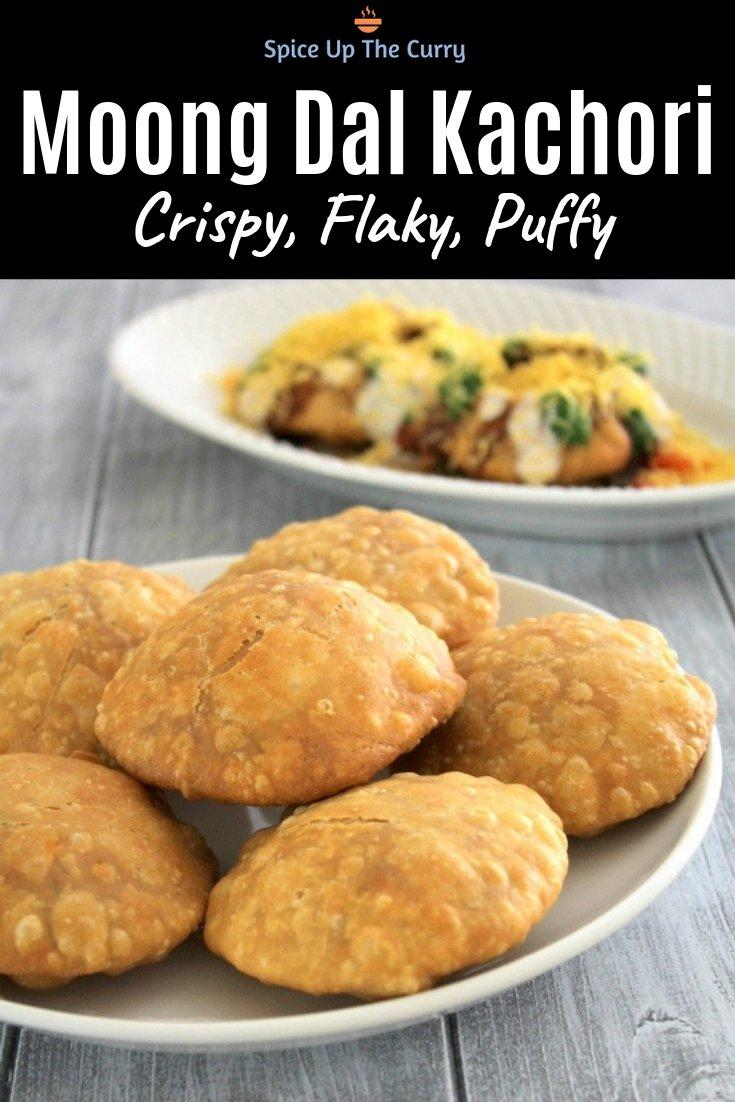kachori: (10, 414, 735, 1076)
